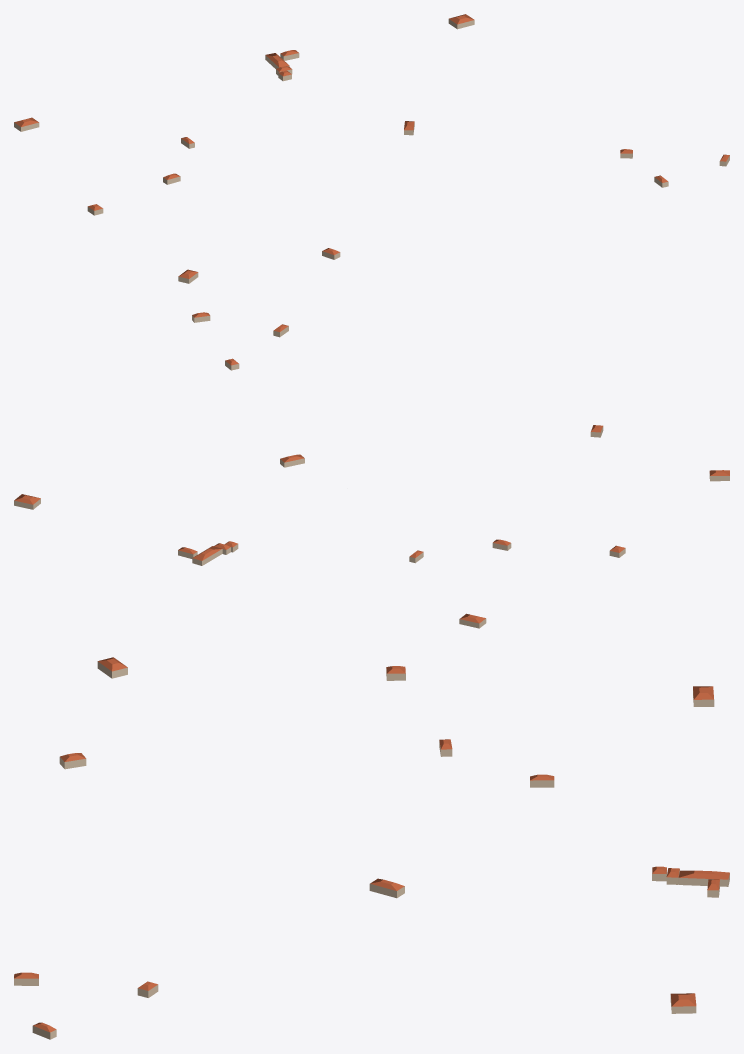
Rendered from msb_noord_m11_m9.glb.
The picture shows the model from 3 angles, top to bottom: view 1: azimuth 30°, elevation 25°; view 2: azimuth 150°, elevation 25°; view 3: azimuth 270°, elevation 25°; orthographic projection. The views are drawn at different scales.
Parts seen in each view (by area): view 1: msb_noord_m11_m9_lod0; view 2: msb_noord_m11_m9_lod0; view 3: msb_noord_m11_m9_lod0.
Part boxes in pixels (x1,y1,x2,y2): msb_noord_m11_m9_lod0: (14,14,729,283); msb_noord_m11_m9_lod0: (14,312,729,628); msb_noord_m11_m9_lod0: (14,657,729,1039).
Size of what is drawn, in the model's own units: 404 by 15.93 by 316.
